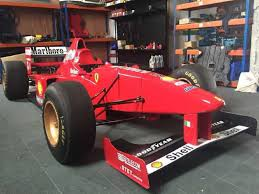f1_car: (1, 31, 259, 193)
